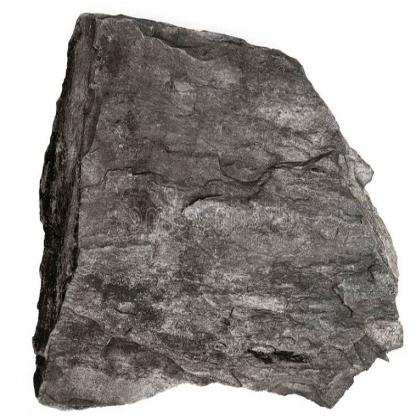Sedimentary_Limestone: (20, 8, 404, 411)
